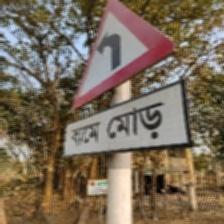Left-Turn: (64, 0, 191, 161)
